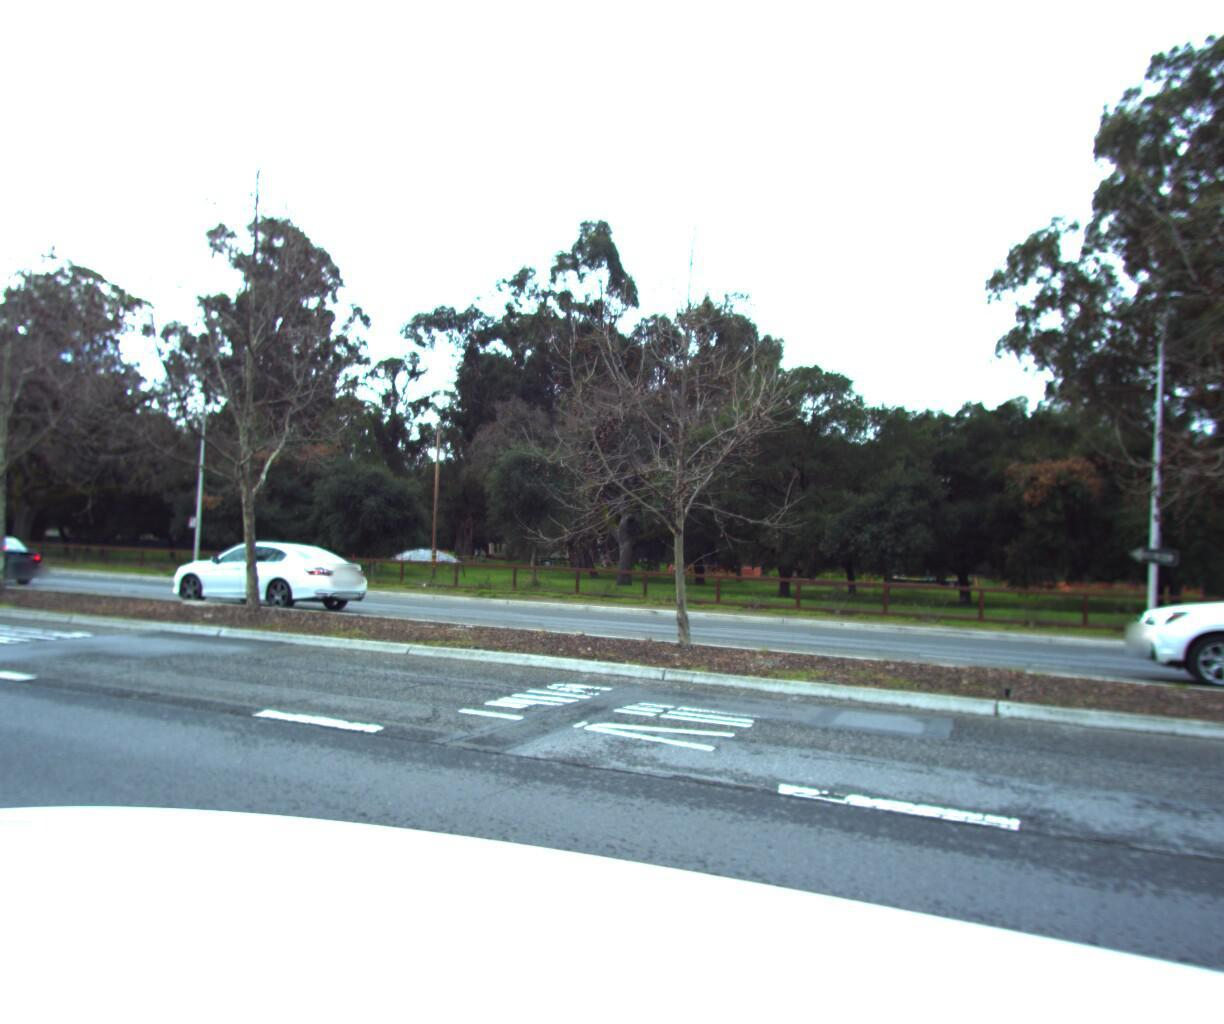car: (150, 527, 382, 615), (1133, 544, 1224, 734), (0, 525, 51, 586)
